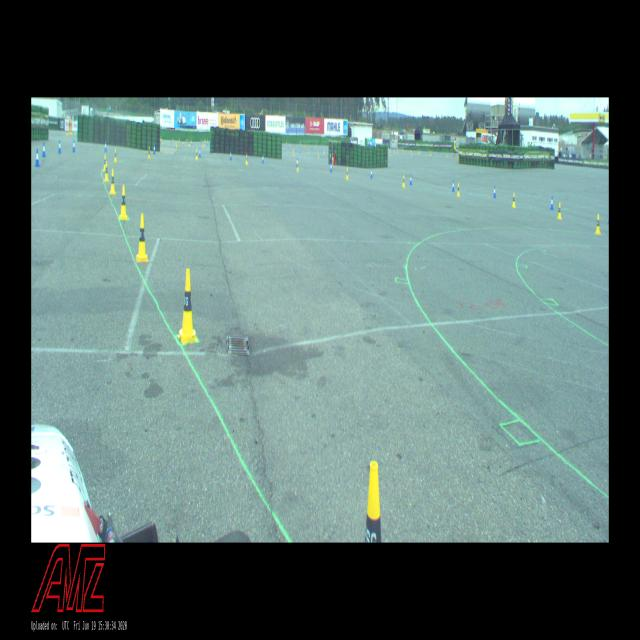blue_cone: (35, 149, 40, 166), (42, 142, 46, 156), (550, 196, 554, 210), (72, 139, 76, 152), (58, 140, 62, 153), (493, 185, 496, 198), (452, 180, 455, 192), (104, 140, 107, 152), (410, 174, 412, 185), (154, 144, 156, 154), (230, 150, 232, 160), (370, 168, 372, 178), (330, 163, 332, 172), (262, 154, 264, 163), (199, 148, 201, 157), (296, 158, 298, 167)
yellow_cone: (177, 269, 198, 343), (364, 460, 382, 542), (136, 214, 148, 262), (120, 185, 128, 219), (110, 169, 116, 195), (595, 214, 601, 234), (104, 162, 109, 182), (557, 203, 562, 219), (103, 154, 106, 171), (512, 193, 515, 207), (114, 149, 117, 163), (457, 183, 460, 196), (402, 175, 405, 188), (148, 146, 151, 158), (346, 168, 348, 180), (296, 160, 298, 172), (196, 149, 198, 160), (246, 154, 248, 165)
